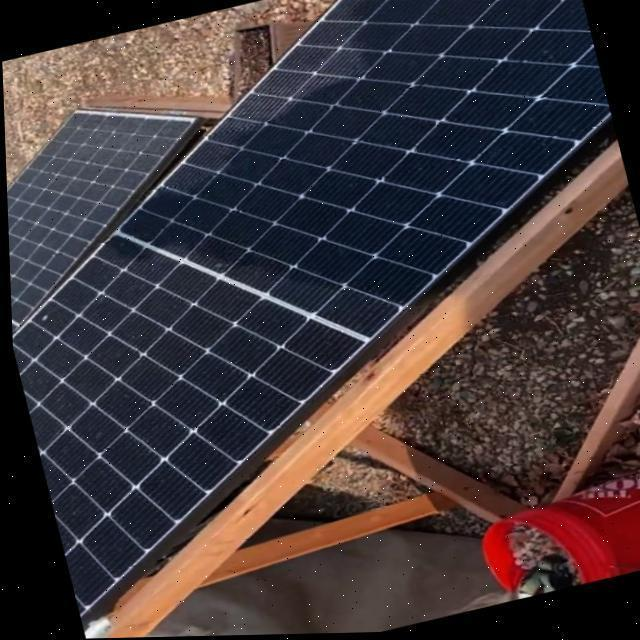Normal Solar Panel: (0, 0, 640, 640), (2, 82, 242, 351)
